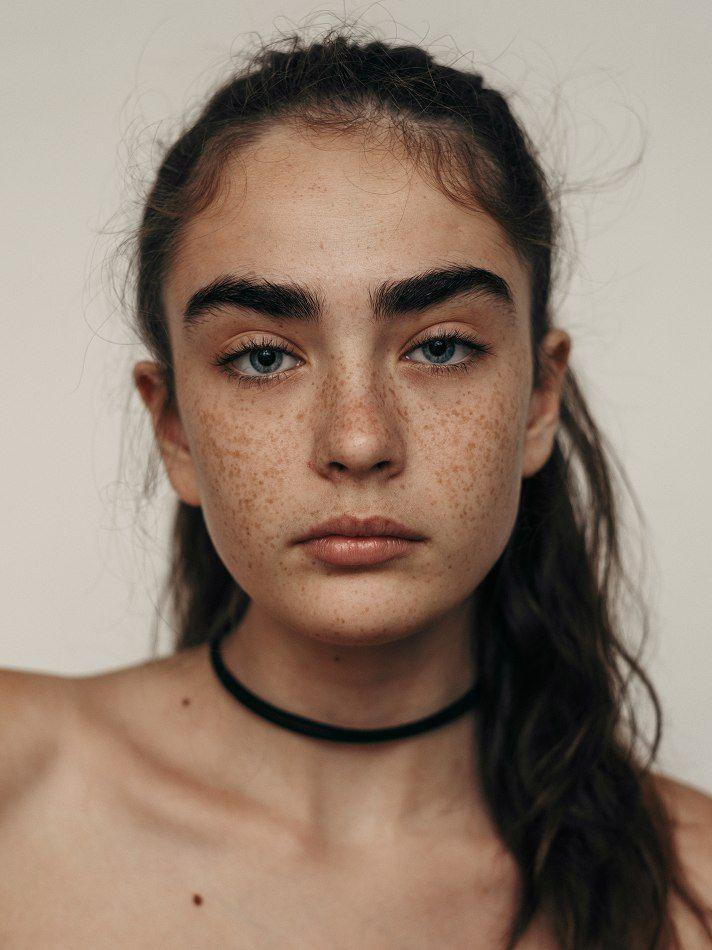Sober: (179, 154, 523, 576)
